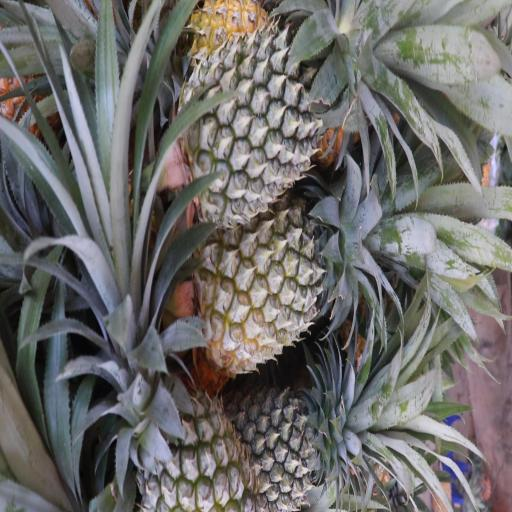------------------------------: (198, 218, 335, 368), (130, 383, 251, 512)
